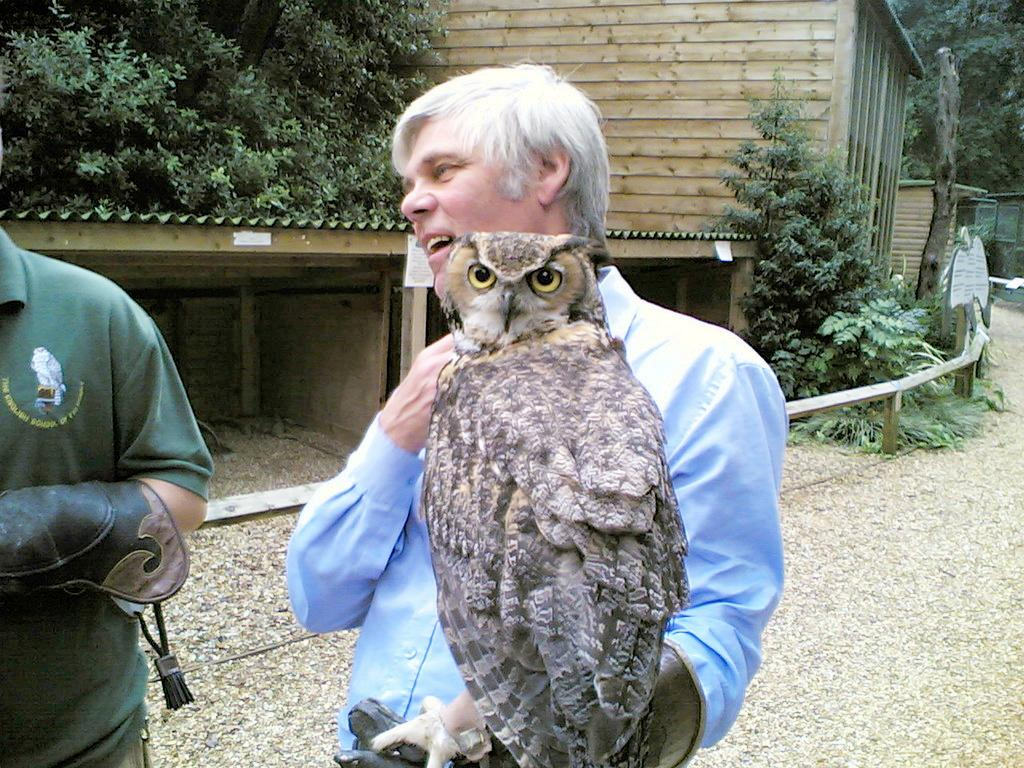Owl: (414, 228, 694, 767)
